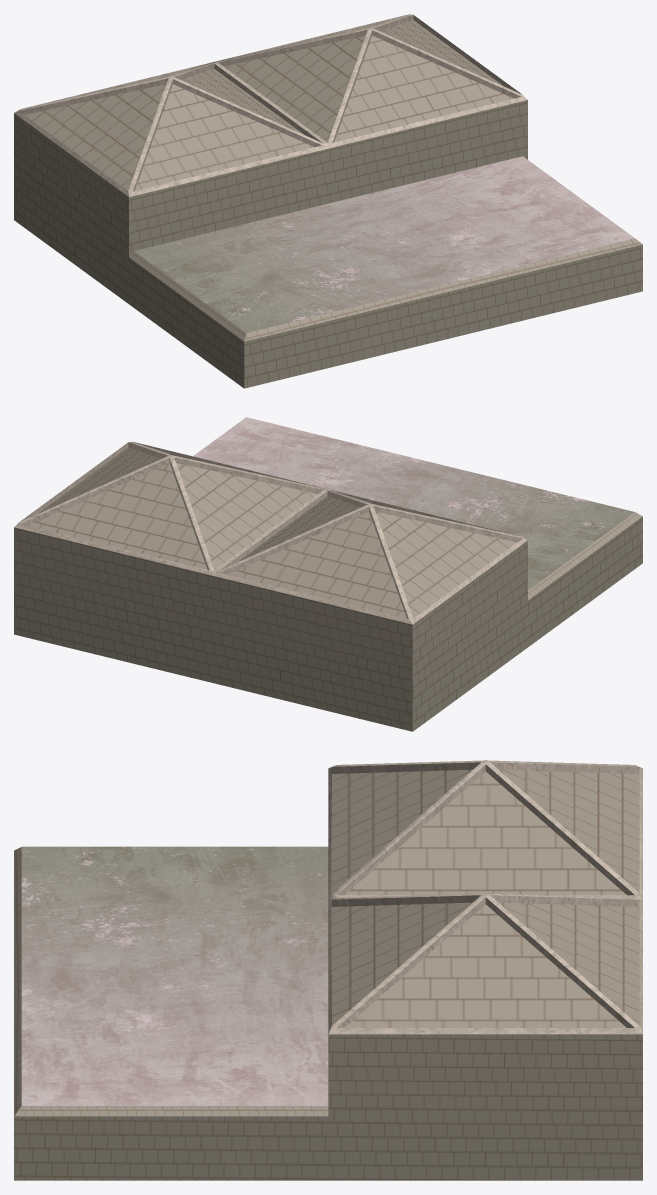
The model's file is ENV_Roof_TwoXTwo_TypeThree.fbx.
The picture shows the model from 3 angles, top to bottom: view 1: azimuth 30°, elevation 25°; view 2: azimuth 150°, elevation 25°; view 3: azimuth 270°, elevation 25°; orthographic projection. The views are drawn at different scales.
Visible parts, largest first — view 1: TwoXTwoRoofThree; view 2: TwoXTwoRoofThree; view 3: TwoXTwoRoofThree.
Boxes of the visible parts, x1,y1,x2,y2 form: TwoXTwoRoofThree: (14, 14, 642, 388); TwoXTwoRoofThree: (14, 417, 642, 731); TwoXTwoRoofThree: (14, 760, 642, 1180).
Bounding box in the file's own units: 24 × 9.22 × 24.
